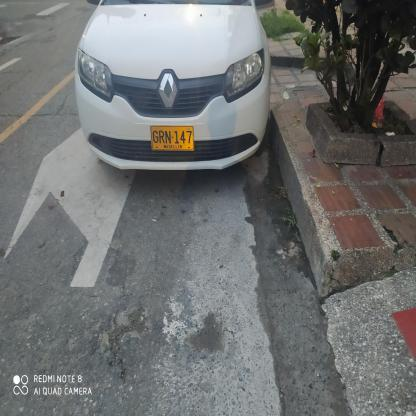placa: (147, 122, 198, 155)
